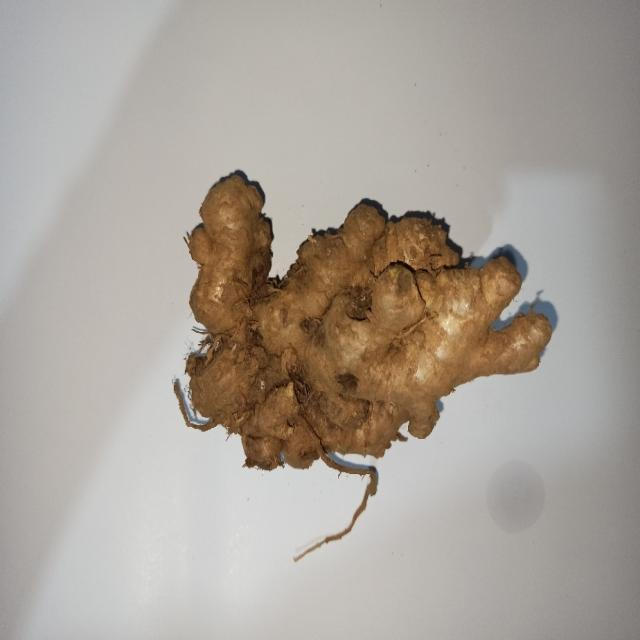ginger: (185, 173, 554, 470)
